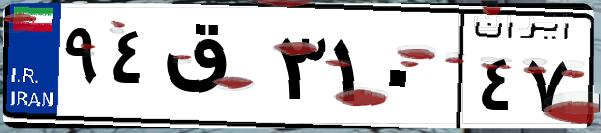0: (385, 28, 445, 110)
1: (330, 28, 385, 110)
3: (270, 28, 330, 110)
4: (475, 38, 525, 113), (110, 28, 158, 98)
7: (525, 38, 570, 115)
9: (57, 26, 110, 100)
ق: (158, 20, 270, 120)
